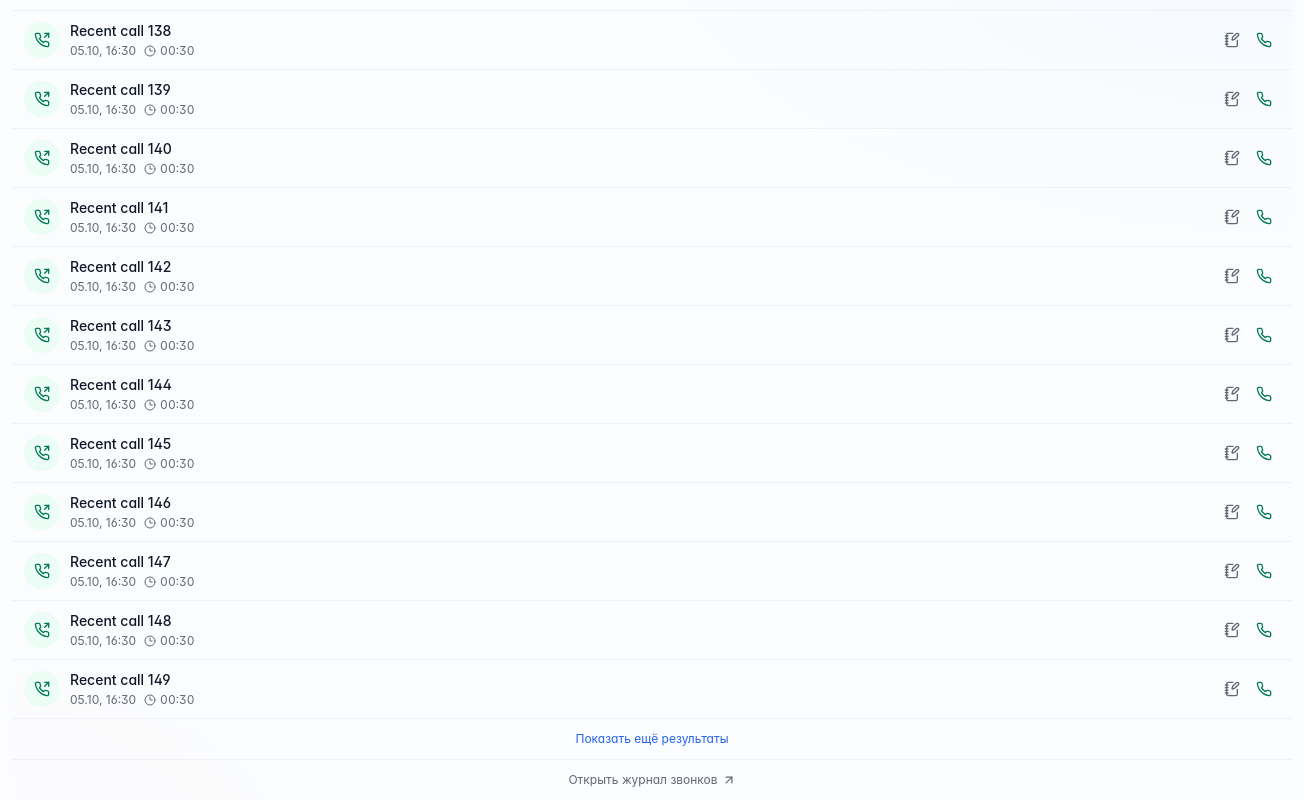
Test: includes a reminder on a later mixed page without duplicating it
(page scrolled)
expect the text "Автоинформатор" is not shown: met
Step 1. Click the button "Показать ещё результаты" → (652, 738), box [12,718,1292,759]
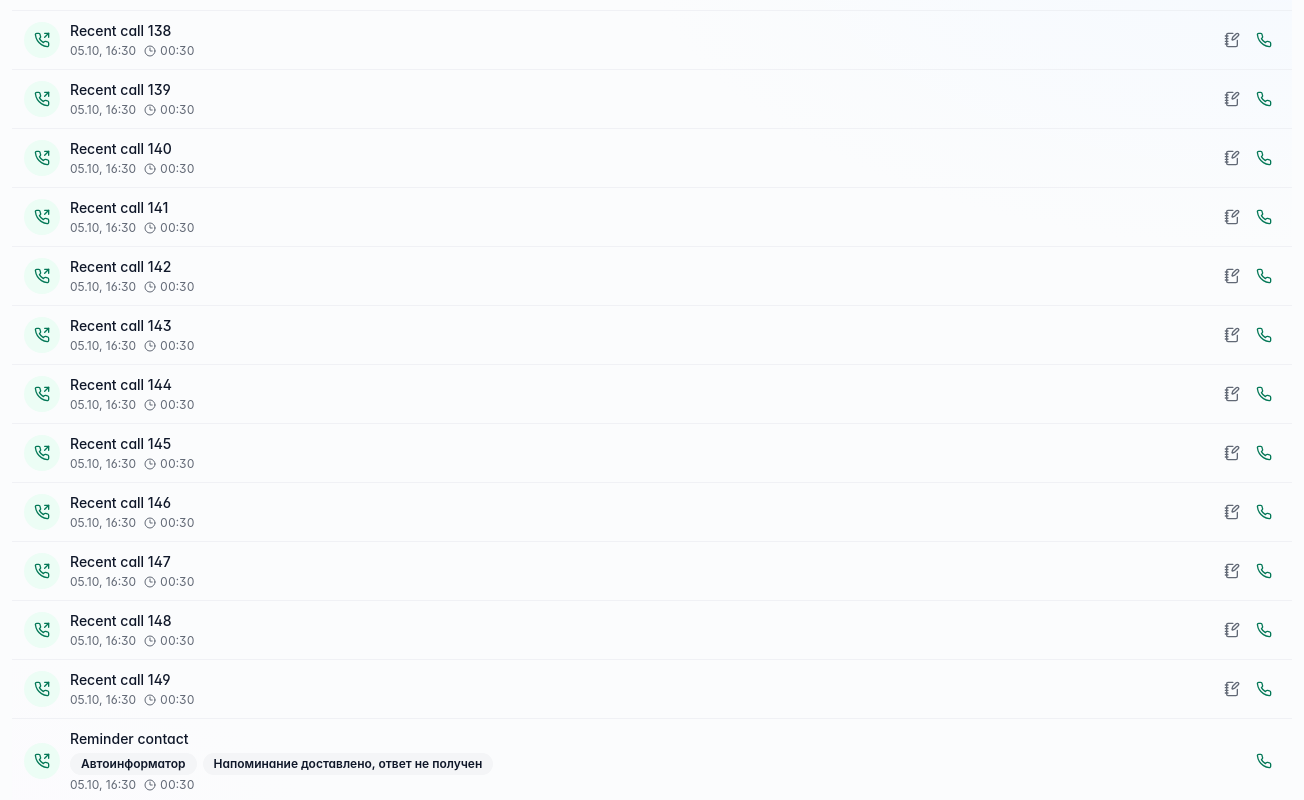
expect the text "Автоинформатор" is shown: met, box [70,753,197,775]
expect the button "Показать ещё результаты" is gone: met
